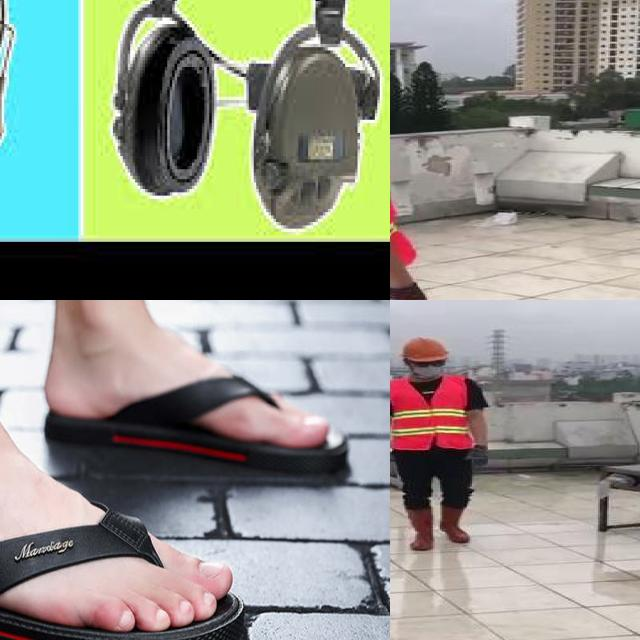Ear-protection: (112, 0, 217, 198), (249, 40, 357, 228)
Sandals: (0, 415, 247, 640), (41, 306, 354, 466)
boots: (403, 504, 438, 551), (436, 504, 474, 544)
face_mask: (408, 358, 447, 378)
glasses: (406, 358, 451, 370)
hand_glove: (390, 287, 432, 300), (472, 444, 492, 467)
head_helmet: (395, 336, 453, 364)
person: (390, 8, 486, 300), (390, 330, 494, 557)
vest: (390, 374, 471, 452)
